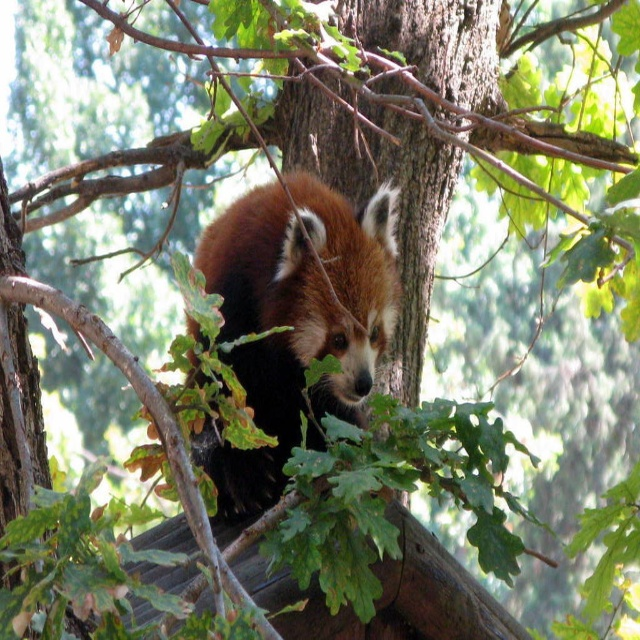Red panda: (183, 167, 424, 523)
